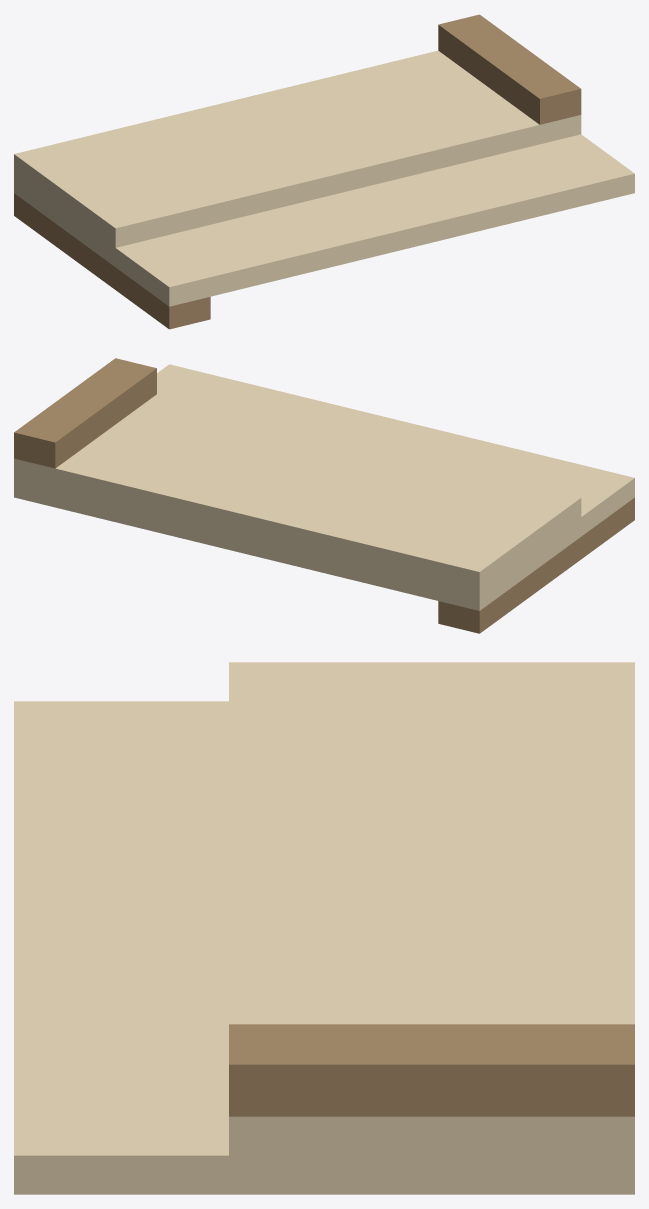
File: prop-shooting-board.fbx
3 renders of one model, top to bottom at view 1: azimuth 30°, elevation 25°; view 2: azimuth 150°, elevation 25°; view 3: azimuth 270°, elevation 25°, orthographic. The views are drawn at different scales.
Visible parts, largest first — view 1: prop-shooting-board; view 2: prop-shooting-board; view 3: prop-shooting-board.
Part boxes in pixels (left/top/right/bottom): prop-shooting-board: left=14, top=14, right=634, bottom=329; prop-shooting-board: left=14, top=358, right=634, bottom=633; prop-shooting-board: left=14, top=662, right=634, bottom=1194.
Size of the model in its own units: 45 by 8.1 by 26.
